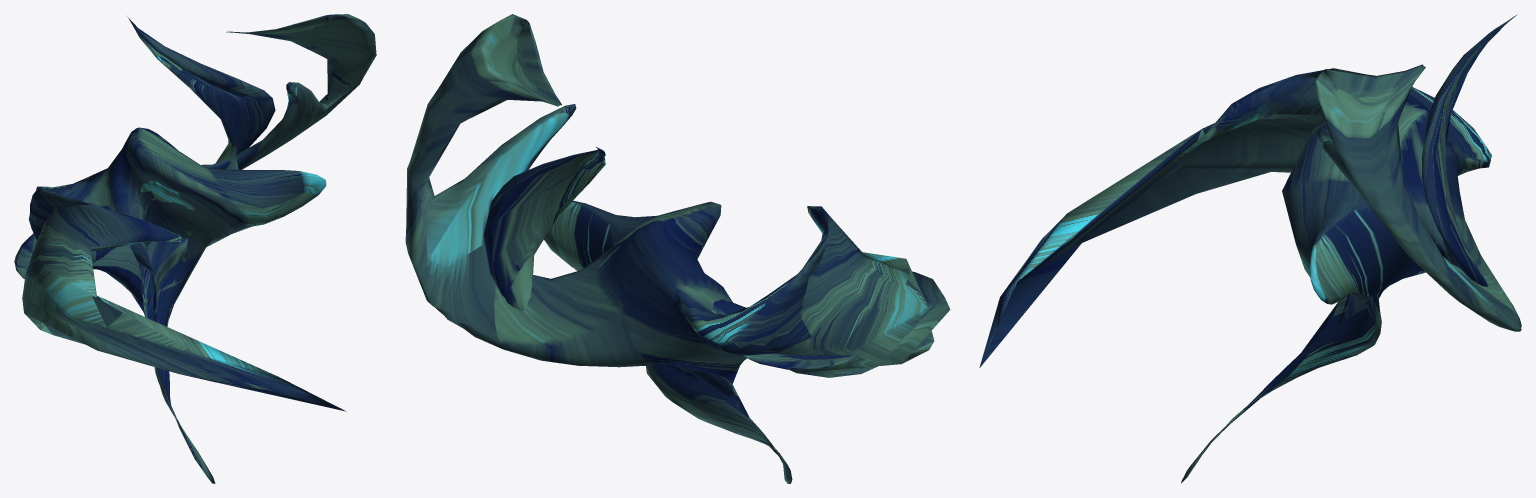
The model's file is BIRDLINED.glb.
3 views of the same model, side by side, from view 1: azimuth 30°, elevation 25°; view 2: azimuth 150°, elevation 25°; view 3: azimuth 270°, elevation 25° (orthographic). The views are drawn at different scales.
Visible parts, largest first — view 1: Icosphere.004; view 2: Icosphere.004; view 3: Icosphere.004.
Part boxes in pixels (box(x1,y1,x2,y2)): Icosphere.004: box(14, 14, 376, 483); Icosphere.004: box(405, 14, 950, 483); Icosphere.004: box(979, 14, 1521, 483).
Bounding box in the file's own units: 4.9 × 4.82 × 4.52.
1 material, 1 textured.
